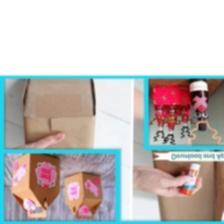carton: (8, 152, 61, 220), (62, 169, 108, 221)
